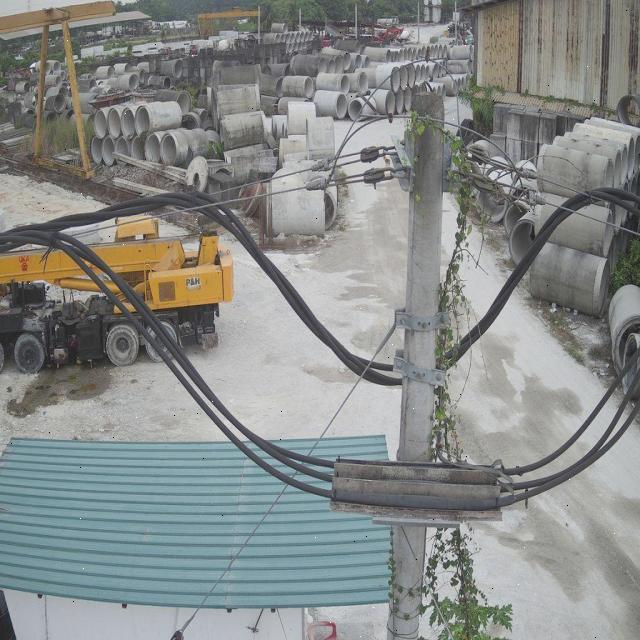critical vegetation: (383, 103, 519, 638)
